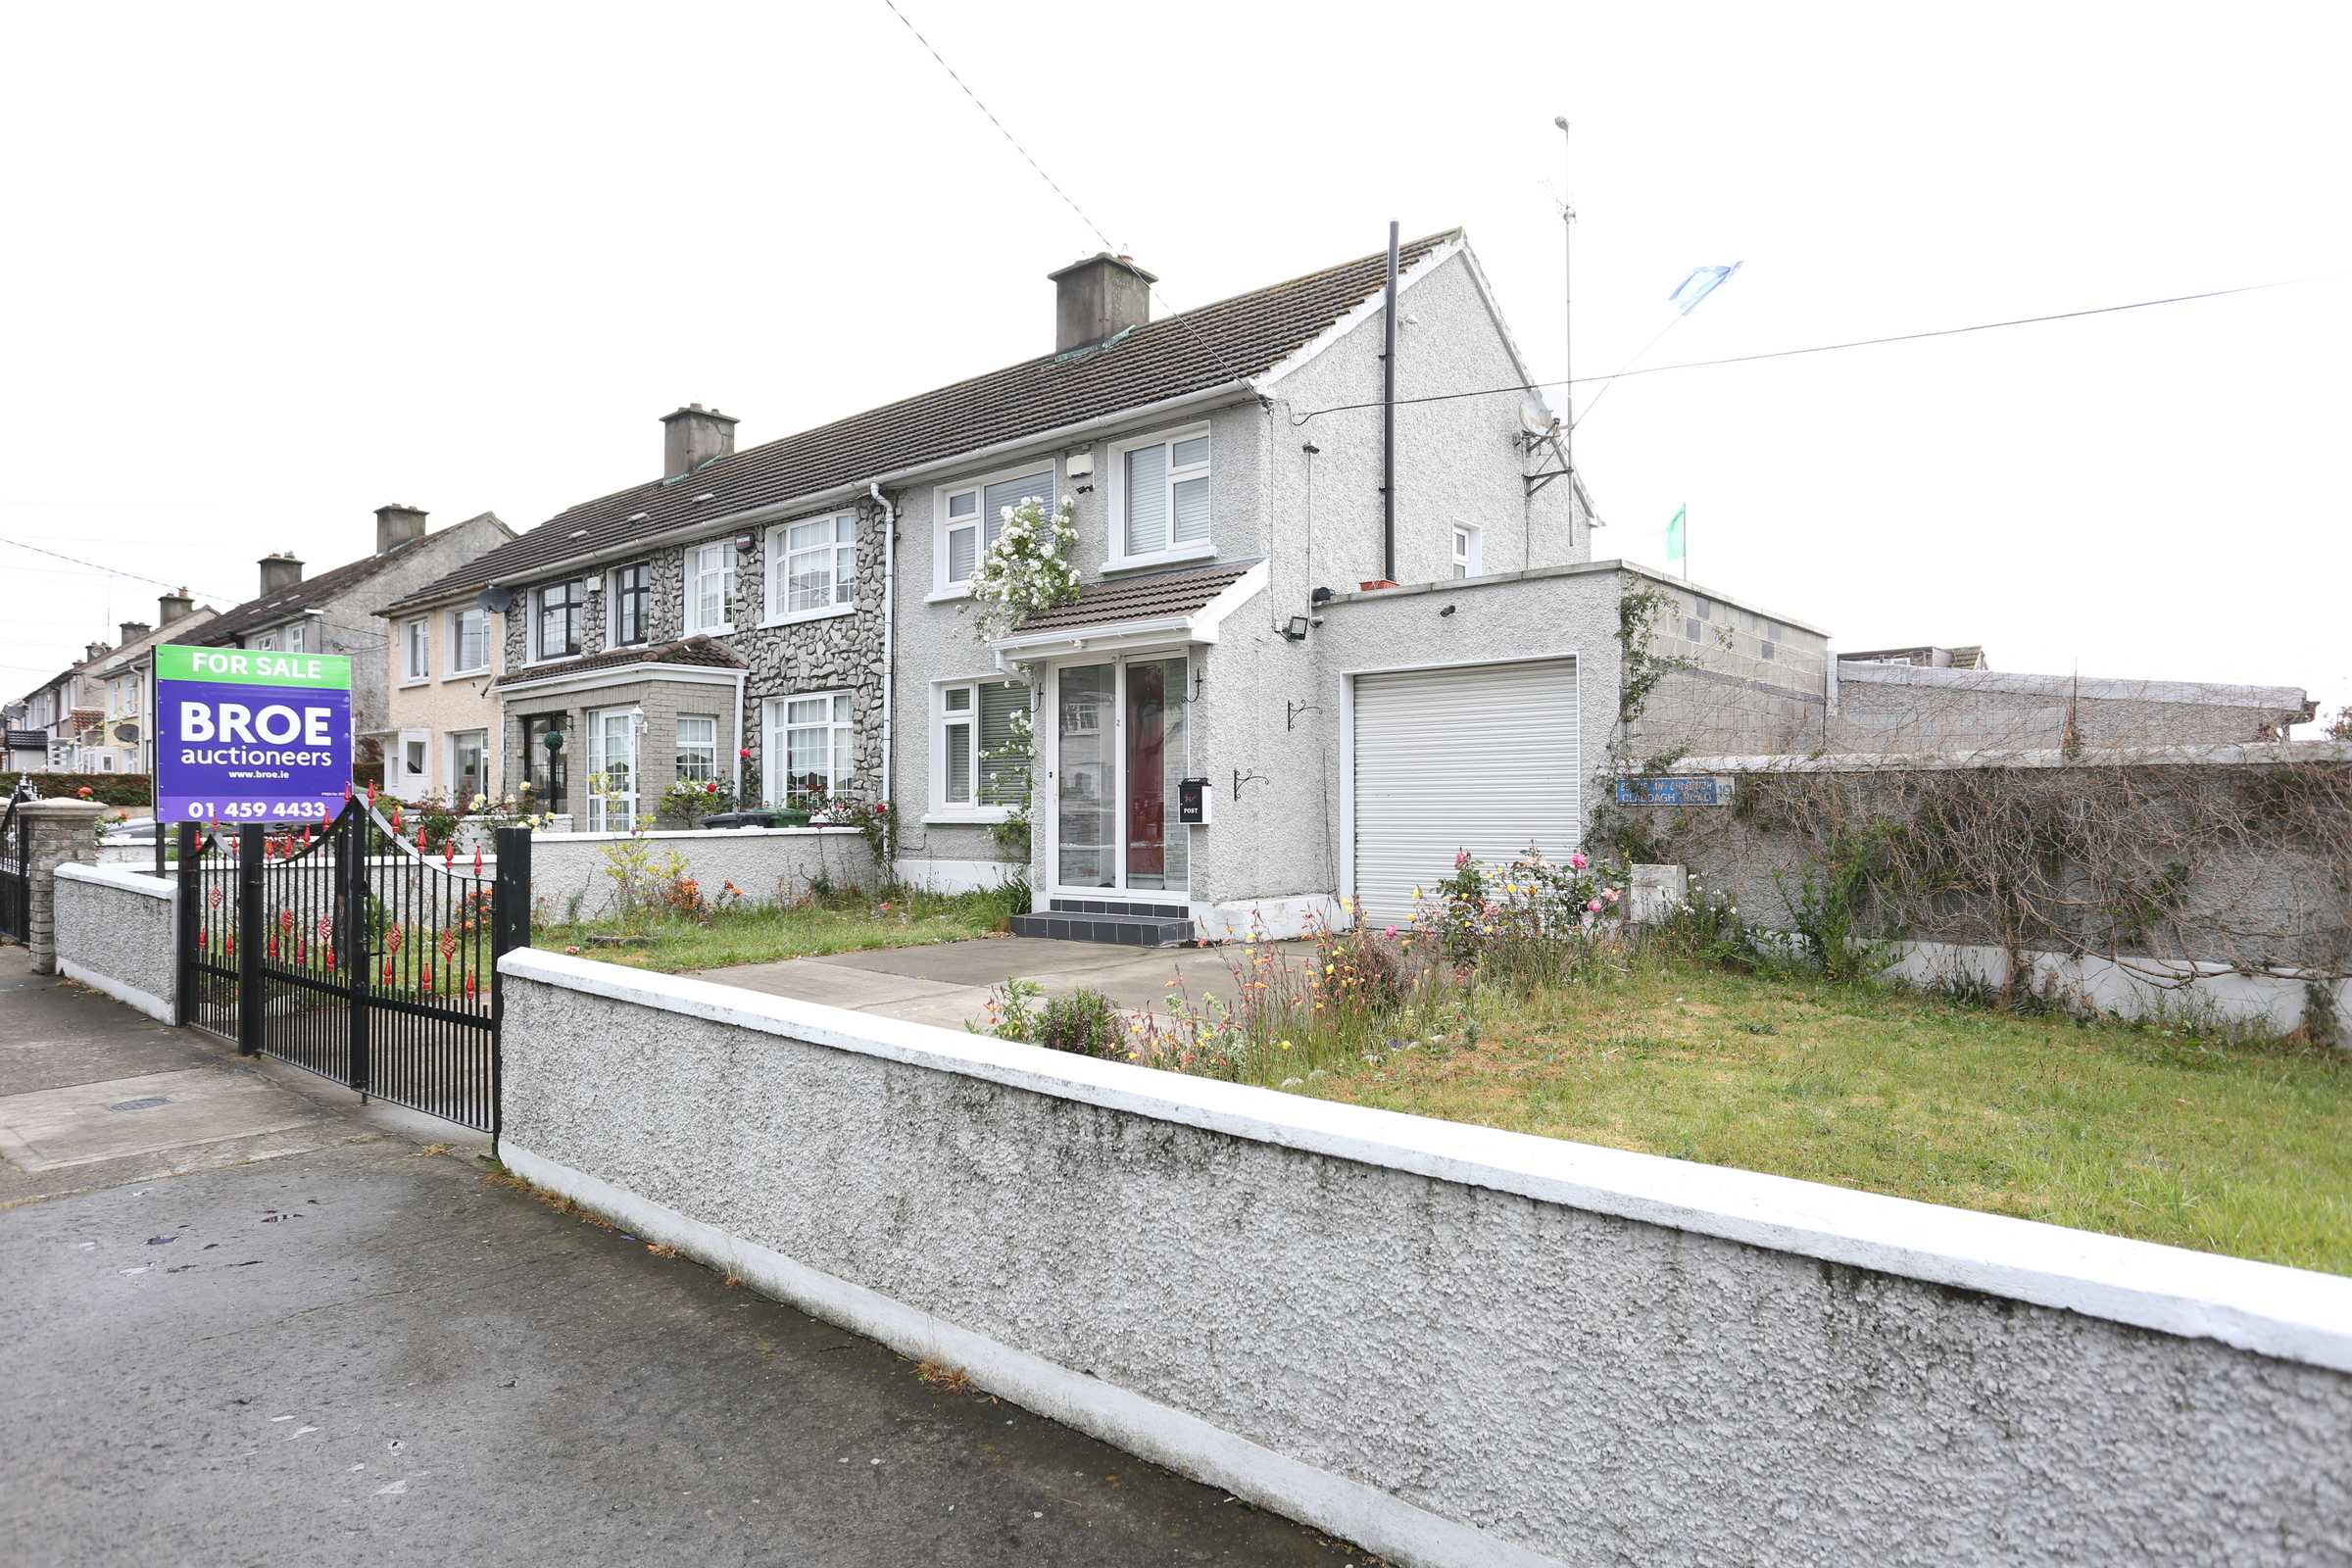property sign: (119, 618, 383, 840)
